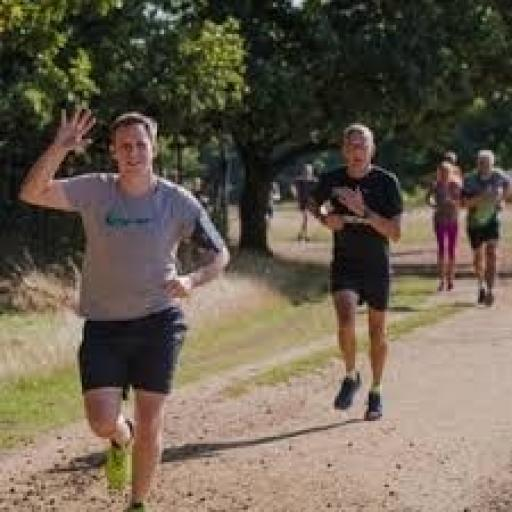running: (16, 102, 234, 510), (302, 120, 410, 426), (457, 146, 510, 310)
